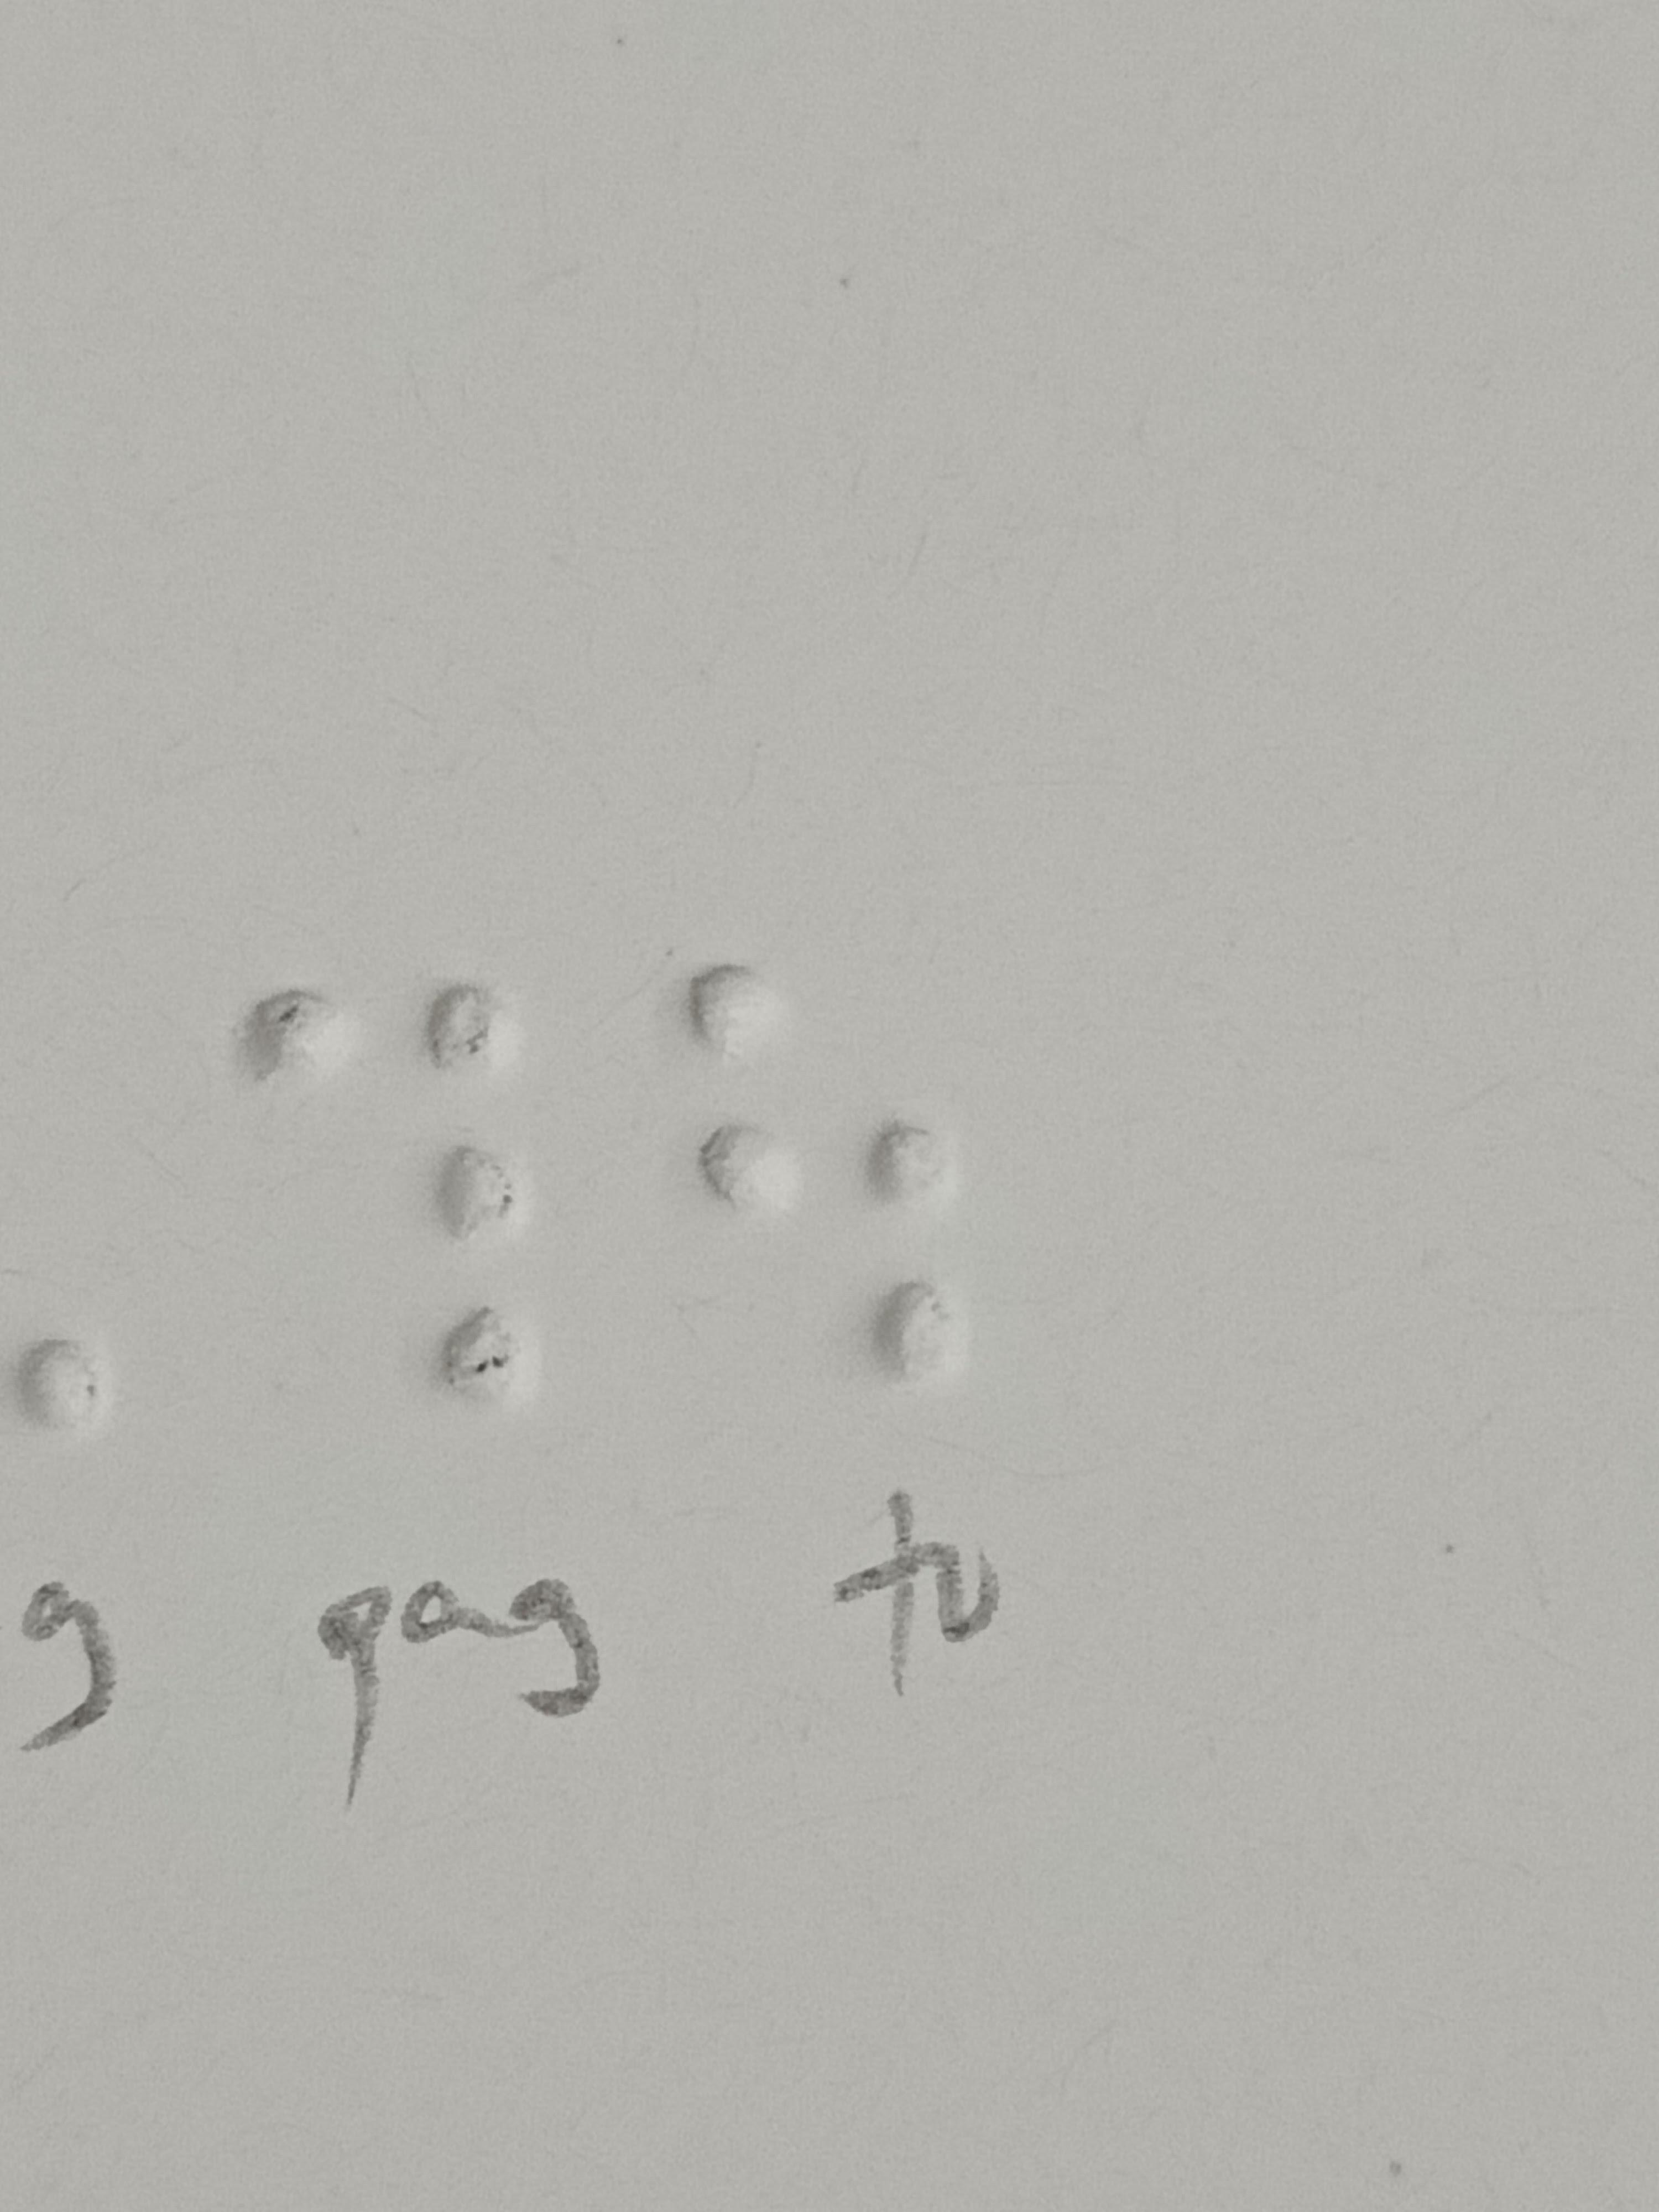one_cell_part_word_pag: (256, 968, 537, 1423)
one_cell_part_word_tu: (687, 948, 951, 1406)
